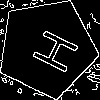H: (22, 23, 80, 75)
